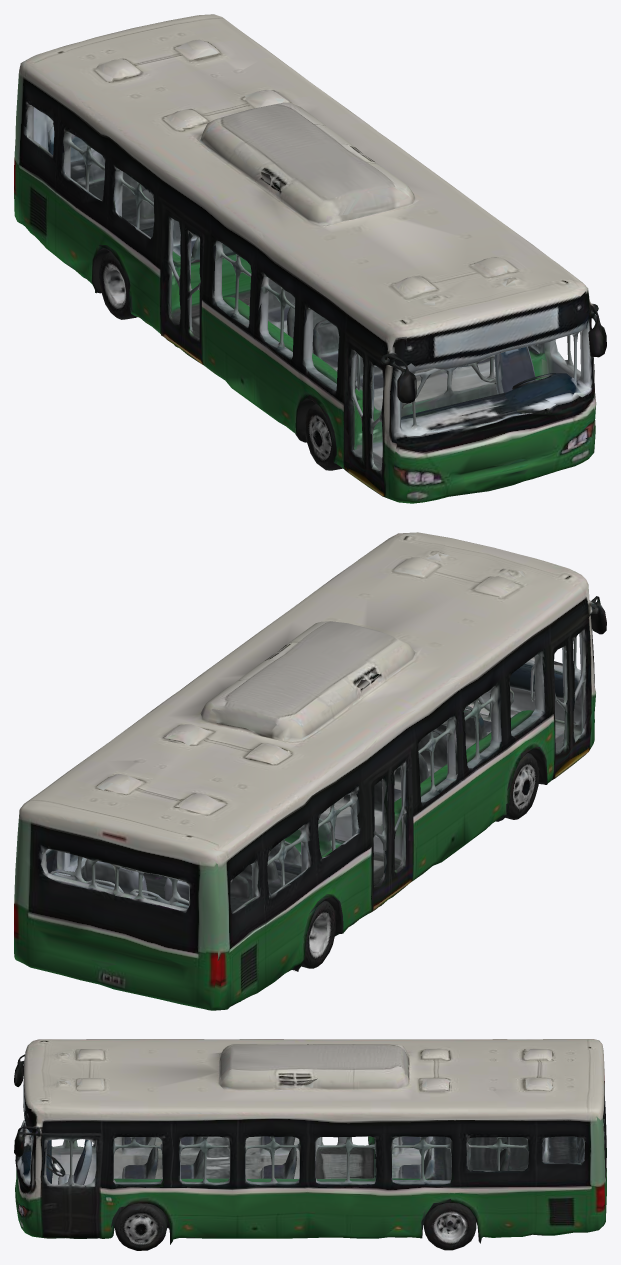
The model's file is bus.glb.
The picture shows the model from 3 angles, top to bottom: view 1: azimuth 30°, elevation 25°; view 2: azimuth 150°, elevation 25°; view 3: azimuth 270°, elevation 25°; orthographic projection. The views are drawn at different scales.
Parts seen in each view (by area): view 1: bus; view 2: bus; view 3: bus.
Part boxes in pixels (x1,y1,x2,y2): bus: [14, 14, 606, 503]; bus: [14, 532, 606, 1010]; bus: [14, 1039, 606, 1250].
Bounding box in the file's own units: 3.36 × 3.11 × 10.5.
Materials: 1 (1 with a texture image).
